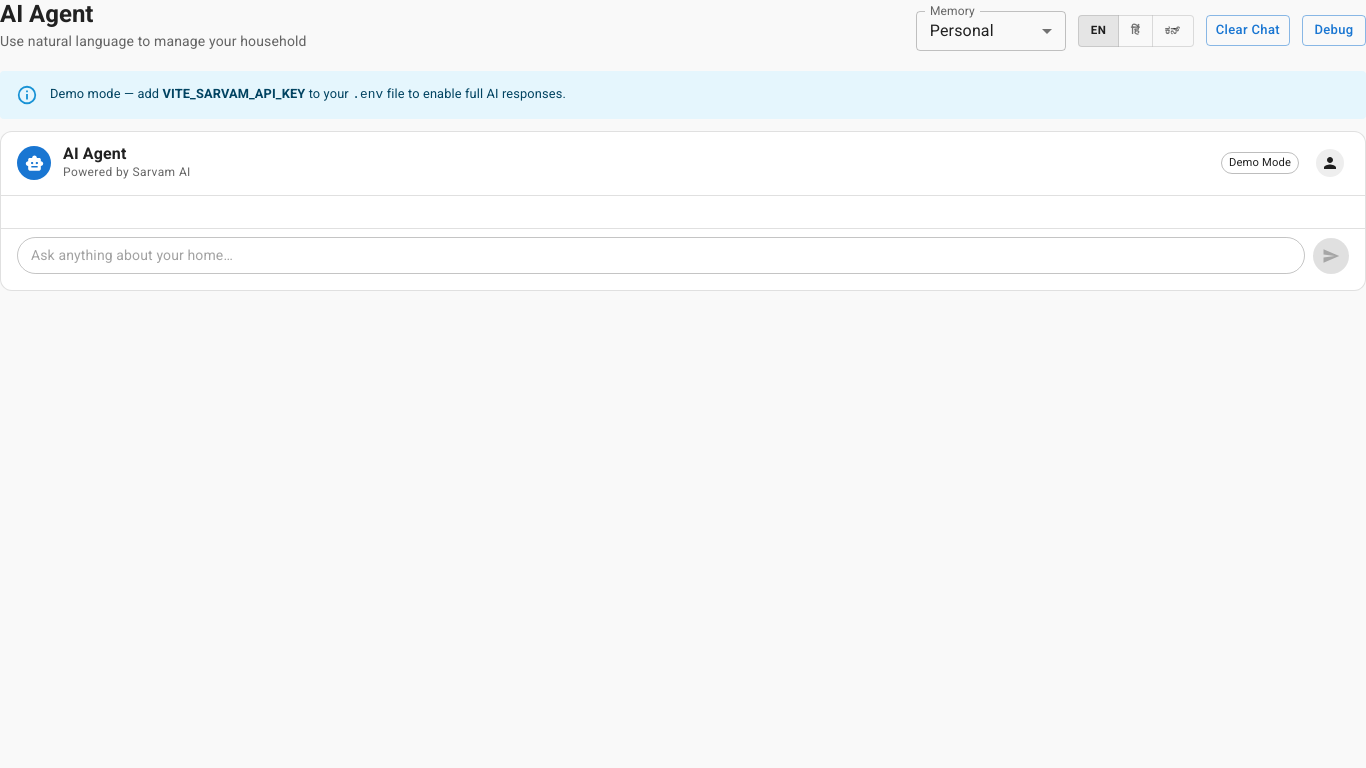
Test: ChatInterface delete chores flow › preview -> click Cancel -> adds cancelled message
The image size is (1366, 768).
Type "delete chores" into the text box with placeholder "Ask anything about your home…". click: coordinates (661, 255)
box: x1=31 y1=245 x2=1291 y2=265
Then press Enter
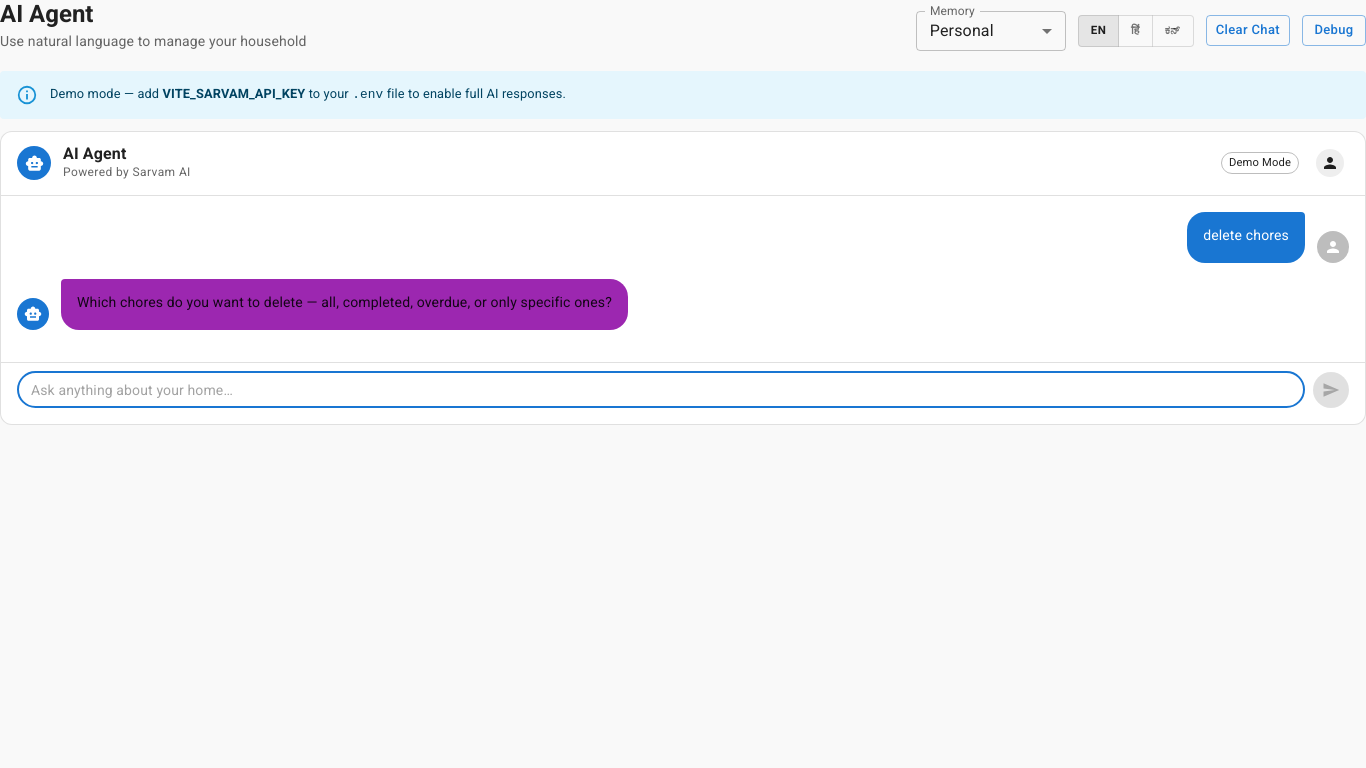
Type "overdue" into the text box with placeholder "Ask anything about your home…". click: coordinates (661, 390)
box: x1=31 y1=380 x2=1291 y2=400
Then press Enter
(page scrolled)
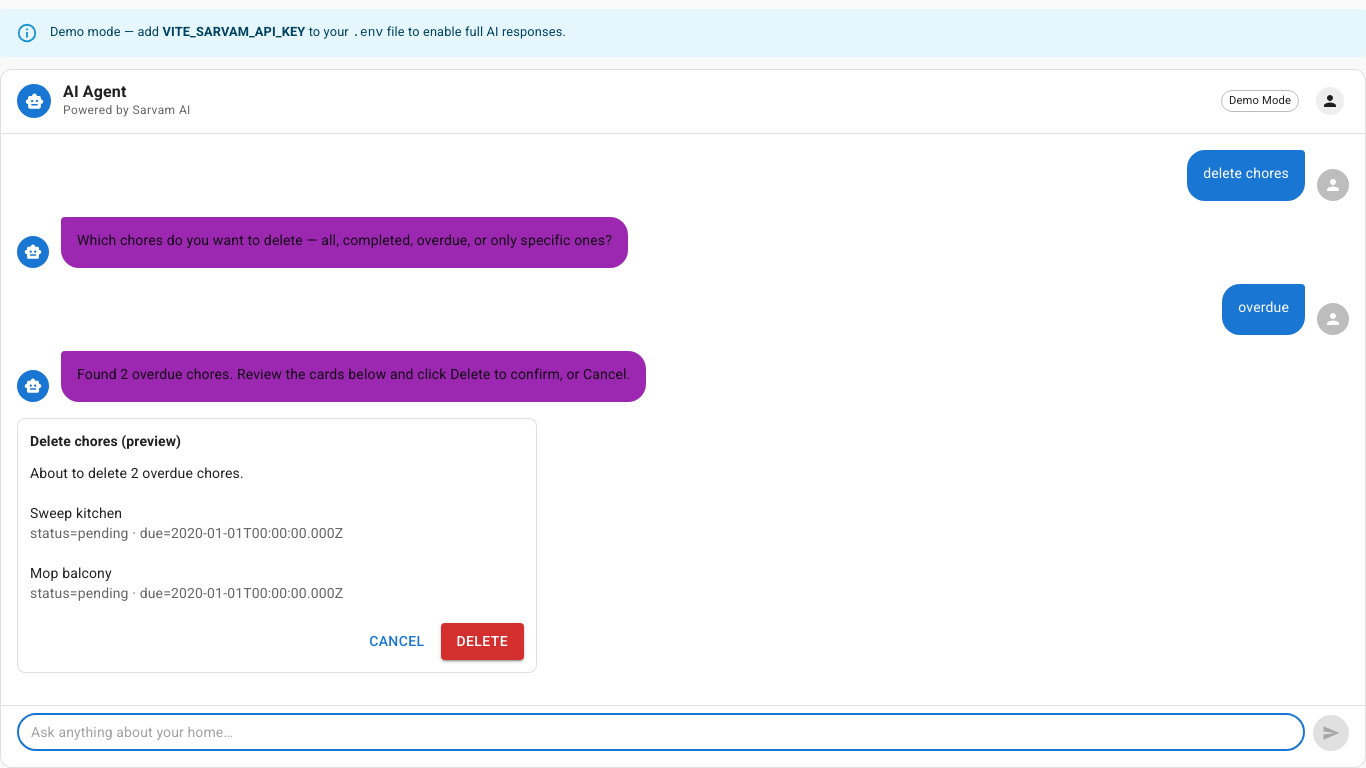
Now the heading "Delete chores (preview)" is shown, box x1=30 y1=433 x2=181 y2=449
Click the button "Cancel". click: coordinates (397, 642)
box: x1=361 y1=623 x2=432 y2=660
(page scrolled)
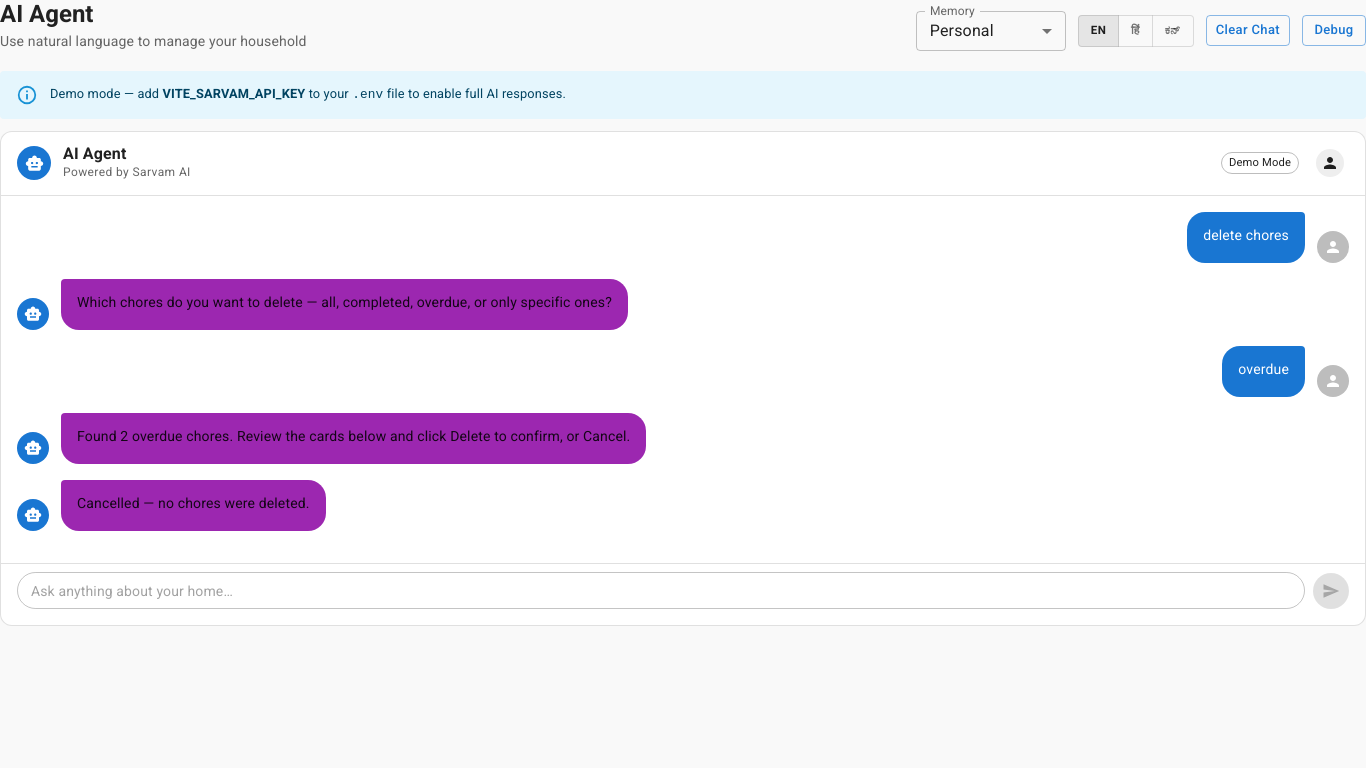
Now the text "Cancelled — no chores were deleted." is shown, box x1=77 y1=492 x2=310 y2=515
